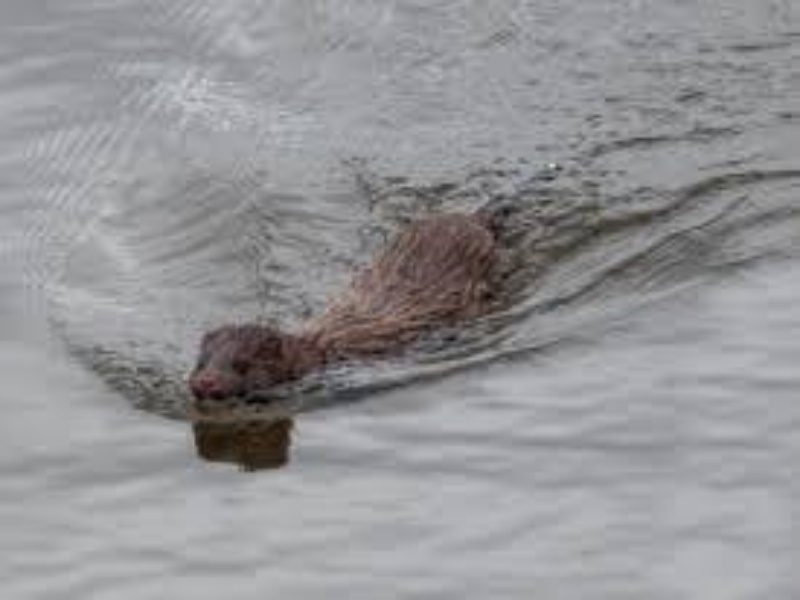minkish: (184, 200, 512, 408)
